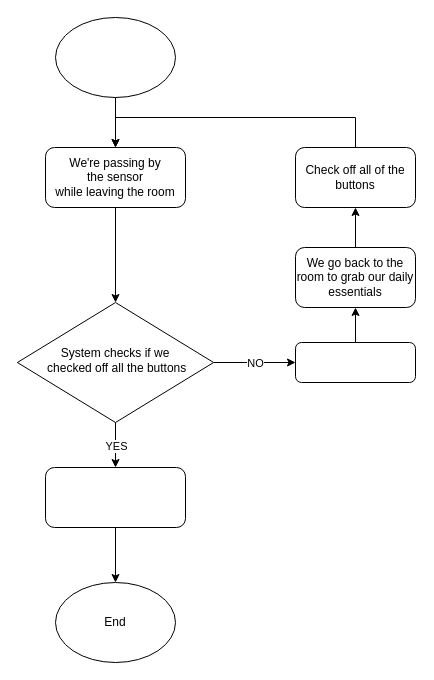
Some shapes in this 434 by 680 pixel diagram are drawn without their labels. The shapes that lost their labels are listed below. From the top down, each one's centre as x and y in pixels, then its label:
the point at 115,57: Start
the point at 355,362: Buzzer notifies us we forgot something
the point at 115,497: We can leave the room peacfully w/o buzzer setting off
